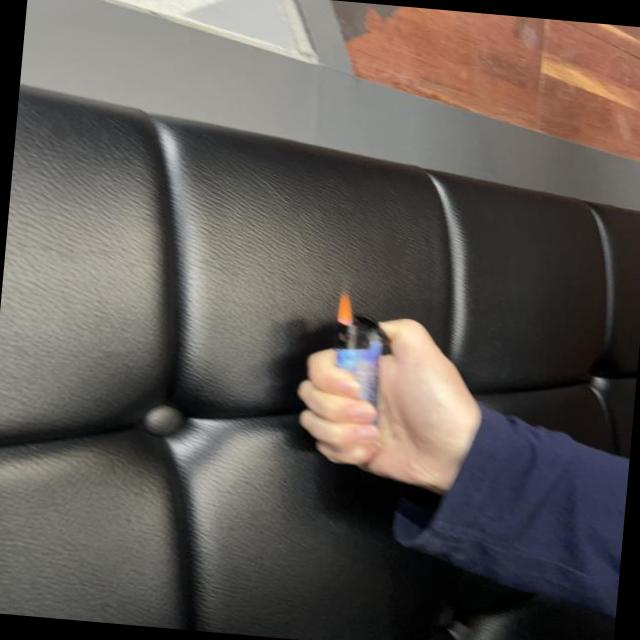Fire: (333, 286, 358, 328)
